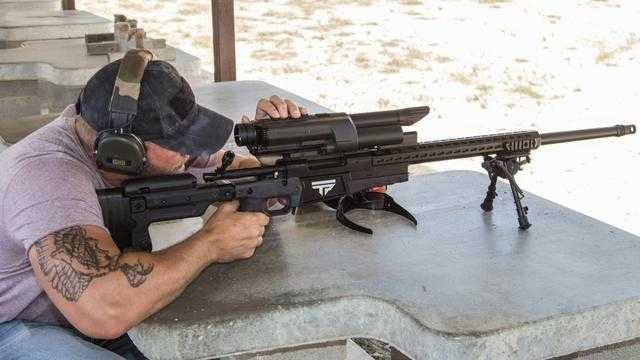heavyweapon: (83, 92, 640, 269)
